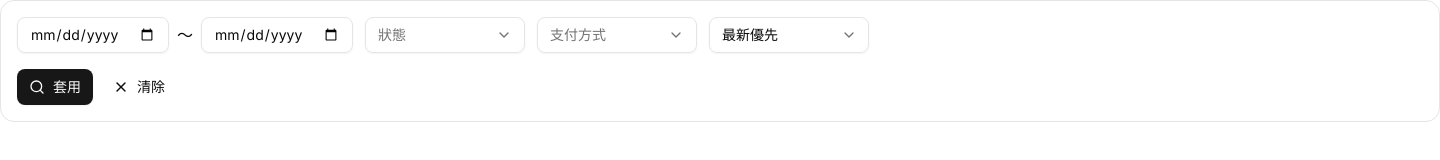
it: FilterBar (deposit-records) › should disable Apply when a date validation error is present
The image size is (1440, 160).
Type "2026-06-01" into the date field named "結束日" at (277, 35), box [201,17,353,53]
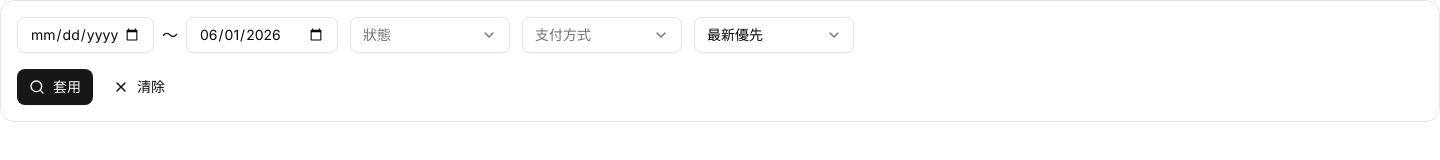
Type "2026-06-10" into the date field named "起始日" at (86, 35), box [17,17,154,53]
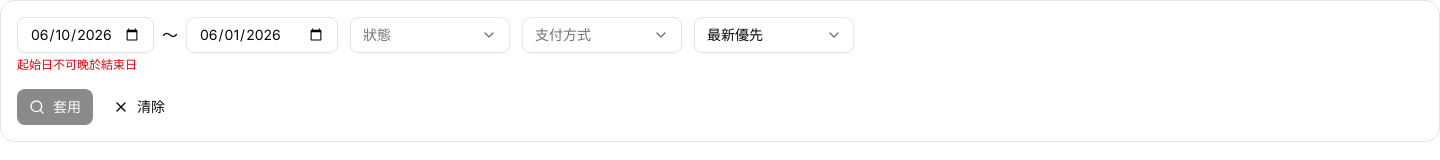
Expected: the button "套用" is disabled, [17,89,93,125]
